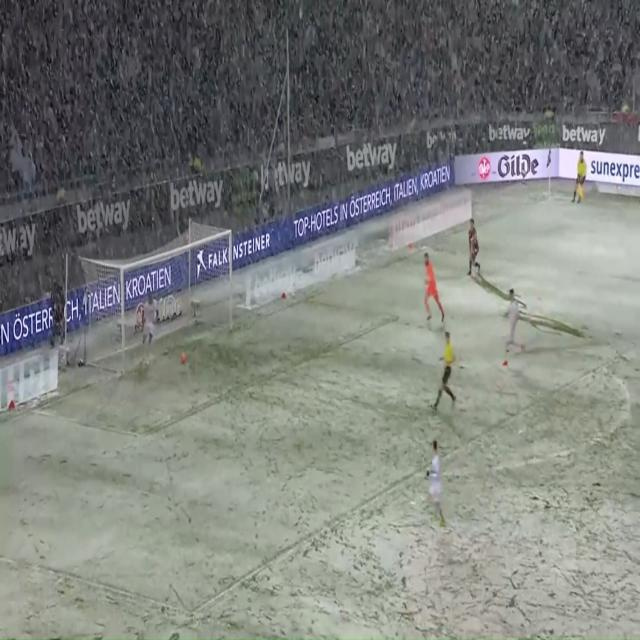ball: (177, 348, 188, 367)
goalkeeper: (418, 247, 447, 327)
player: (133, 281, 160, 370), (423, 432, 447, 532), (500, 279, 526, 369), (466, 216, 483, 283)
referee: (431, 325, 459, 419), (571, 144, 587, 209)
